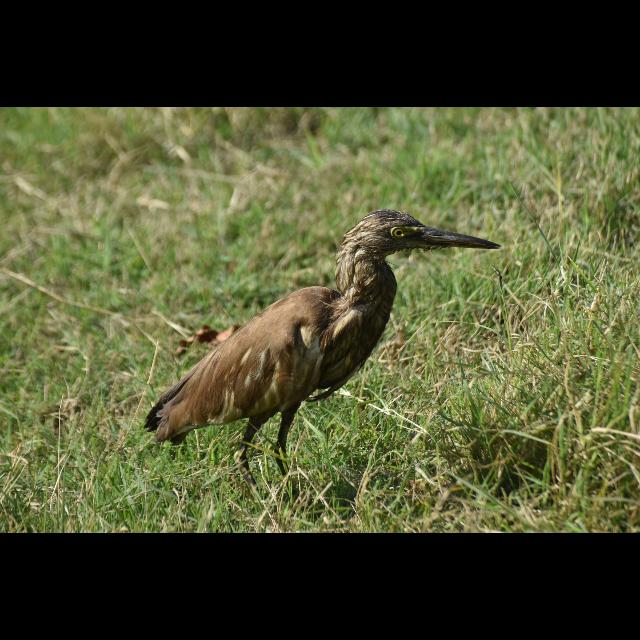heron: (153, 208, 501, 470)
